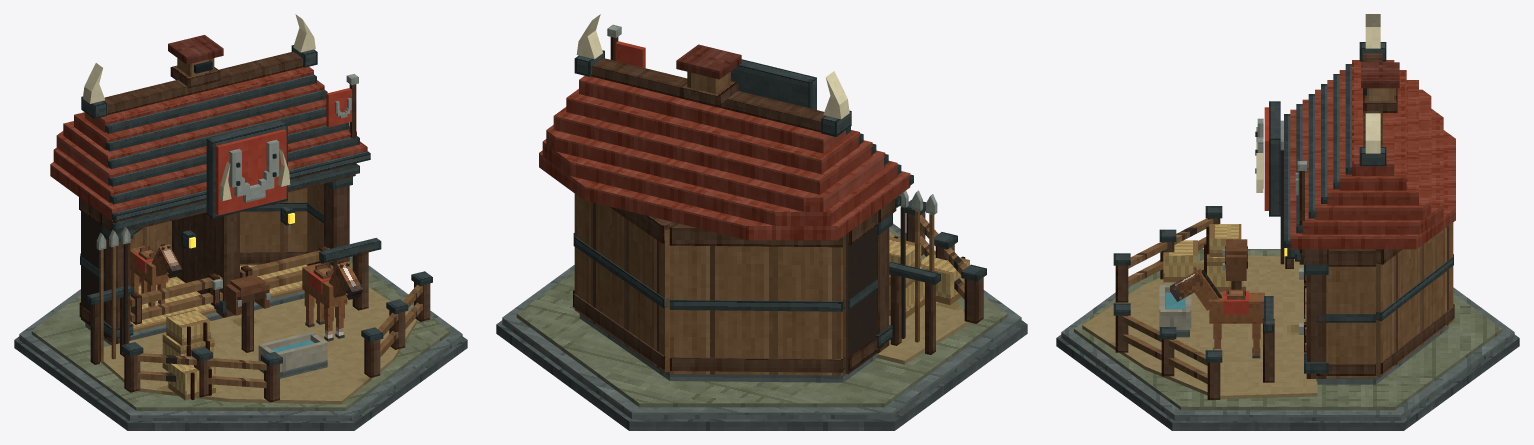
The model's file is orc_war_stable_hex_v1.glb.
3 renders of one model, left to right at view 1: azimuth 30°, elevation 25°; view 2: azimuth 150°, elevation 25°; view 3: azimuth 270°, elevation 25°, orthographic. The views are drawn at different scales.
Visible parts, largest first — view 1: Orc_War_Stable_Hex_V1_Roofs, Orc_War_Stable_Hex_V1_Stable, Orc_War_Stable_Hex_V1_Foundation, Orc_War_Stable_Hex_V1_Courtyard, Orc_War_Stable_Hex_V1_Equipment, Orc_War_Stable_Hex_V1_Details, Orc_War_Stable_Hex_V1_Mounts, Orc_War_Stable_Hex_V1_Faction; view 2: Orc_War_Stable_Hex_V1_Stable, Orc_War_Stable_Hex_V1_Roofs, Orc_War_Stable_Hex_V1_Foundation, Orc_War_Stable_Hex_V1_Equipment, Orc_War_Stable_Hex_V1_Courtyard, Orc_War_Stable_Hex_V1_Faction; view 3: Orc_War_Stable_Hex_V1_Roofs, Orc_War_Stable_Hex_V1_Foundation, Orc_War_Stable_Hex_V1_Stable, Orc_War_Stable_Hex_V1_Courtyard, Orc_War_Stable_Hex_V1_Equipment, Orc_War_Stable_Hex_V1_Mounts, Orc_War_Stable_Hex_V1_Details, Orc_War_Stable_Hex_V1_Faction.
Boxes of the visible parts, left/top/right/bottom form: Orc_War_Stable_Hex_V1_Roofs: left=50, top=14, right=370, bottom=221; Orc_War_Stable_Hex_V1_Stable: left=79, top=58, right=359, bottom=344; Orc_War_Stable_Hex_V1_Foundation: left=14, top=256, right=467, bottom=430; Orc_War_Stable_Hex_V1_Courtyard: left=101, top=271, right=432, bottom=404; Orc_War_Stable_Hex_V1_Equipment: left=86, top=227, right=381, bottom=400; Orc_War_Stable_Hex_V1_Details: left=181, top=74, right=358, bottom=378; Orc_War_Stable_Hex_V1_Mounts: left=130, top=244, right=362, bottom=341; Orc_War_Stable_Hex_V1_Faction: left=134, top=88, right=351, bottom=294; Orc_War_Stable_Hex_V1_Stable: left=573, top=59, right=901, bottom=382; Orc_War_Stable_Hex_V1_Roofs: left=539, top=14, right=913, bottom=240; Orc_War_Stable_Hex_V1_Foundation: left=496, top=223, right=1027, bottom=430; Orc_War_Stable_Hex_V1_Equipment: left=889, top=190, right=969, bottom=354; Orc_War_Stable_Hex_V1_Courtyard: left=877, top=200, right=986, bottom=364; Orc_War_Stable_Hex_V1_Faction: left=615, top=41, right=645, bottom=68; Orc_War_Stable_Hex_V1_Roofs: left=1284, top=14, right=1455, bottom=249; Orc_War_Stable_Hex_V1_Foundation: left=1056, top=249, right=1519, bottom=430; Orc_War_Stable_Hex_V1_Stable: left=1269, top=88, right=1454, bottom=384; Orc_War_Stable_Hex_V1_Courtyard: left=1082, top=206, right=1317, bottom=399; Orc_War_Stable_Hex_V1_Equipment: left=1160, top=120, right=1293, bottom=382; Orc_War_Stable_Hex_V1_Mounts: left=1170, top=267, right=1264, bottom=358; Orc_War_Stable_Hex_V1_Details: left=1159, top=118, right=1306, bottom=337; Orc_War_Stable_Hex_V1_Faction: left=1223, top=107, right=1268, bottom=314.
Bounding box in the file's own units: 1.59 × 1.24 × 1.84.
1 material, 1 textured.
